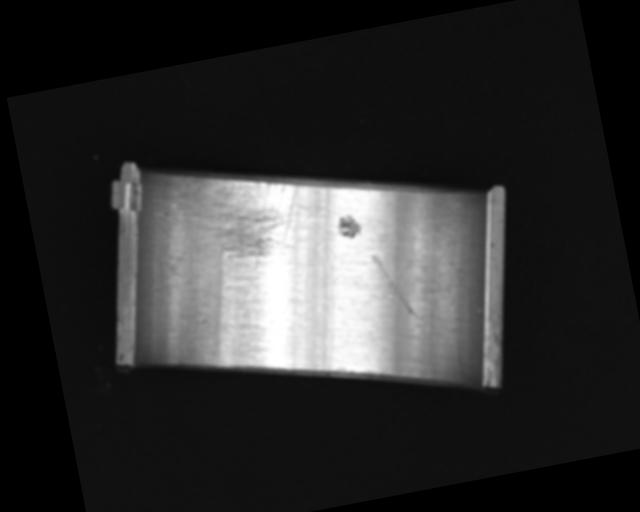bruise: (335, 213, 364, 240)
nick: (306, 245, 350, 372), (371, 248, 418, 325)
scratch: (179, 154, 313, 279)
